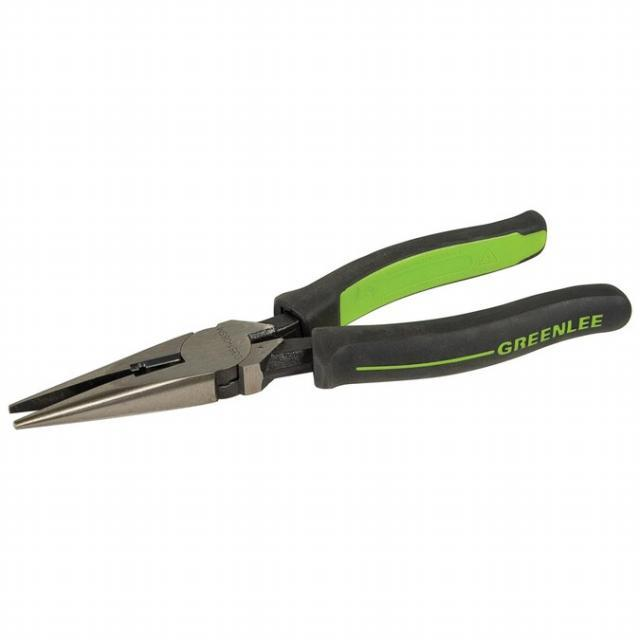pliers: (4, 202, 638, 440)
